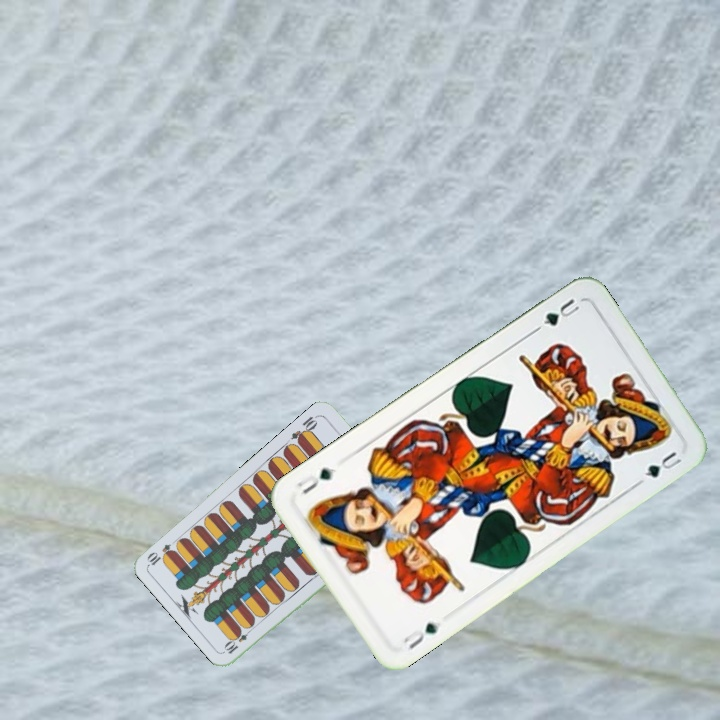E10: (287, 411, 321, 446), (221, 623, 255, 656)
GU: (539, 294, 582, 329), (399, 618, 442, 652)
